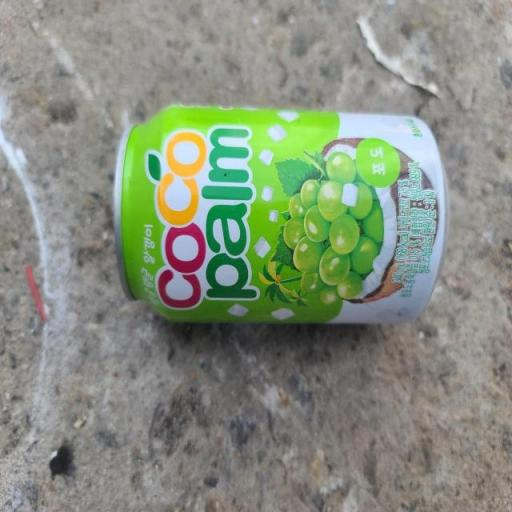metal: (96, 78, 460, 375)
